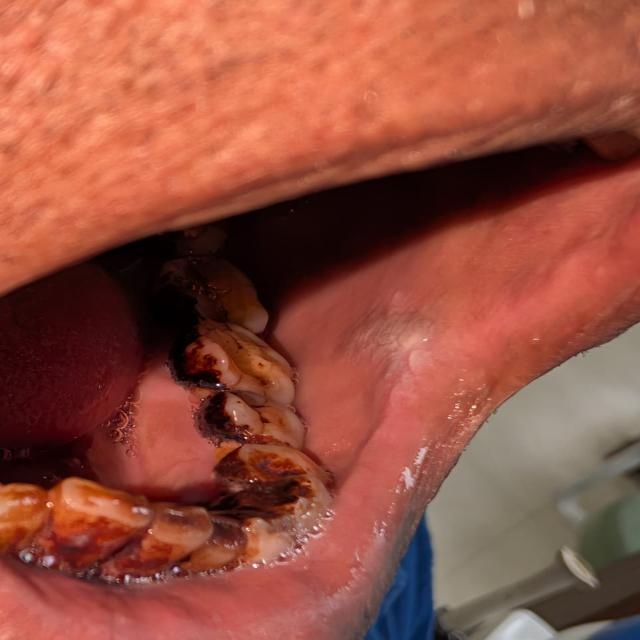leukoplakia-detection: (343, 296, 484, 433)
processing_area: (274, 156, 639, 594)
